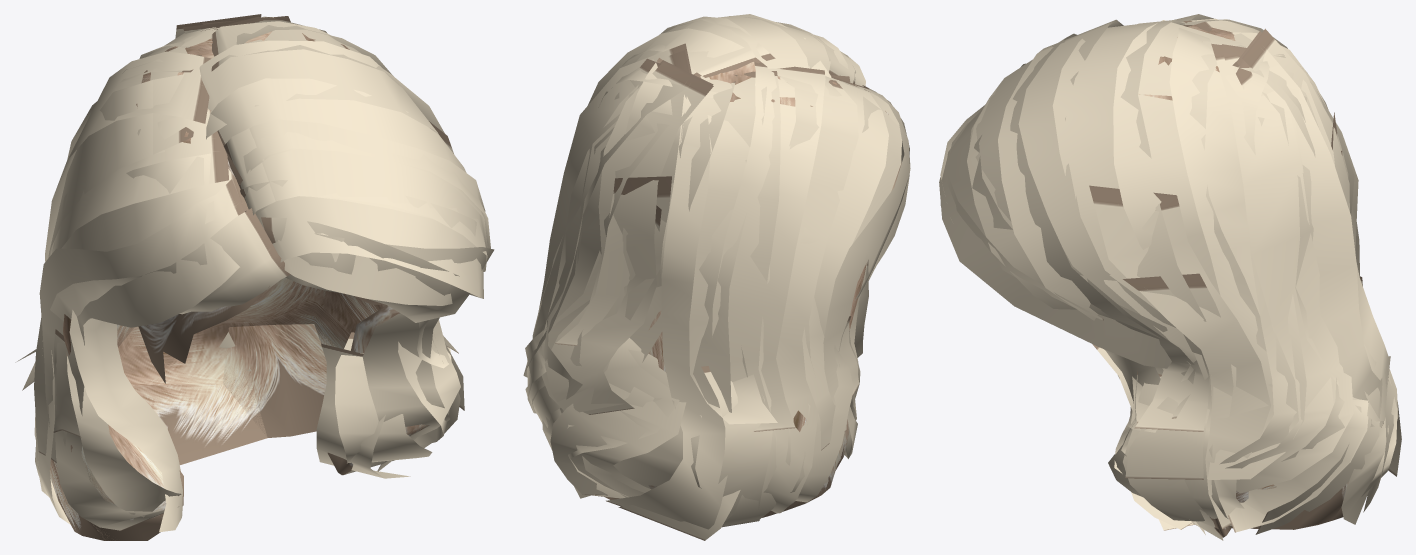
The model's file is hair_006.obj.
The picture shows the model from 3 angles, left to right: view 1: azimuth 30°, elevation 25°; view 2: azimuth 150°, elevation 25°; view 3: azimuth 270°, elevation 25°; orthographic projection. The views are drawn at different scales.
Bounding box in the file's own units: 23.22 × 29.96 × 26.86.
